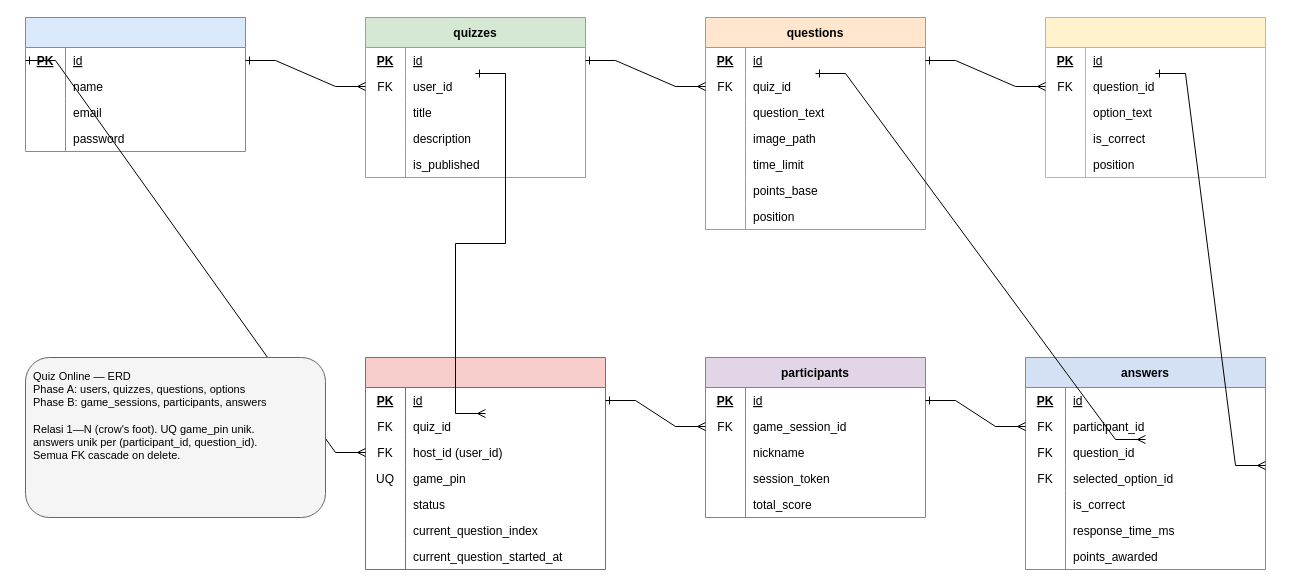
Some shapes in this 1292 by 587 pixel diagram are drawn without their labels. The shapes that lost their labels are listed below. From the top down, each one's box as (x1, y1, x2, y2) in pixels, then its label:
(24, 16, 246, 152): users
(1044, 16, 1266, 178): options
(364, 356, 606, 570): game_sessions
